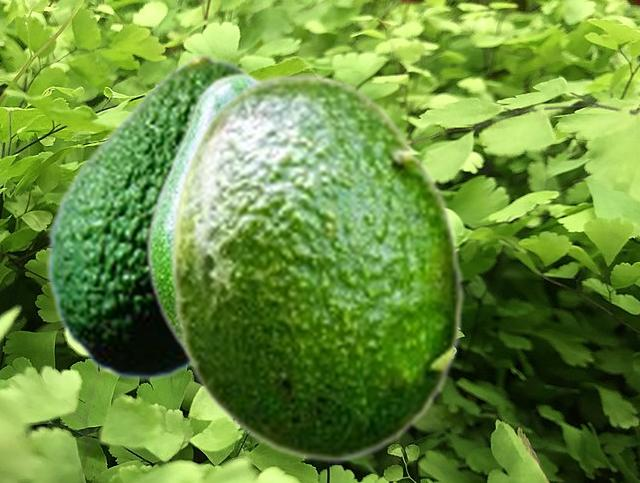avocado: (167, 73, 464, 462), (46, 54, 252, 380), (144, 71, 260, 361)
